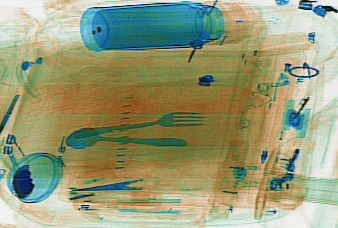scissors: (68, 163, 185, 209)
